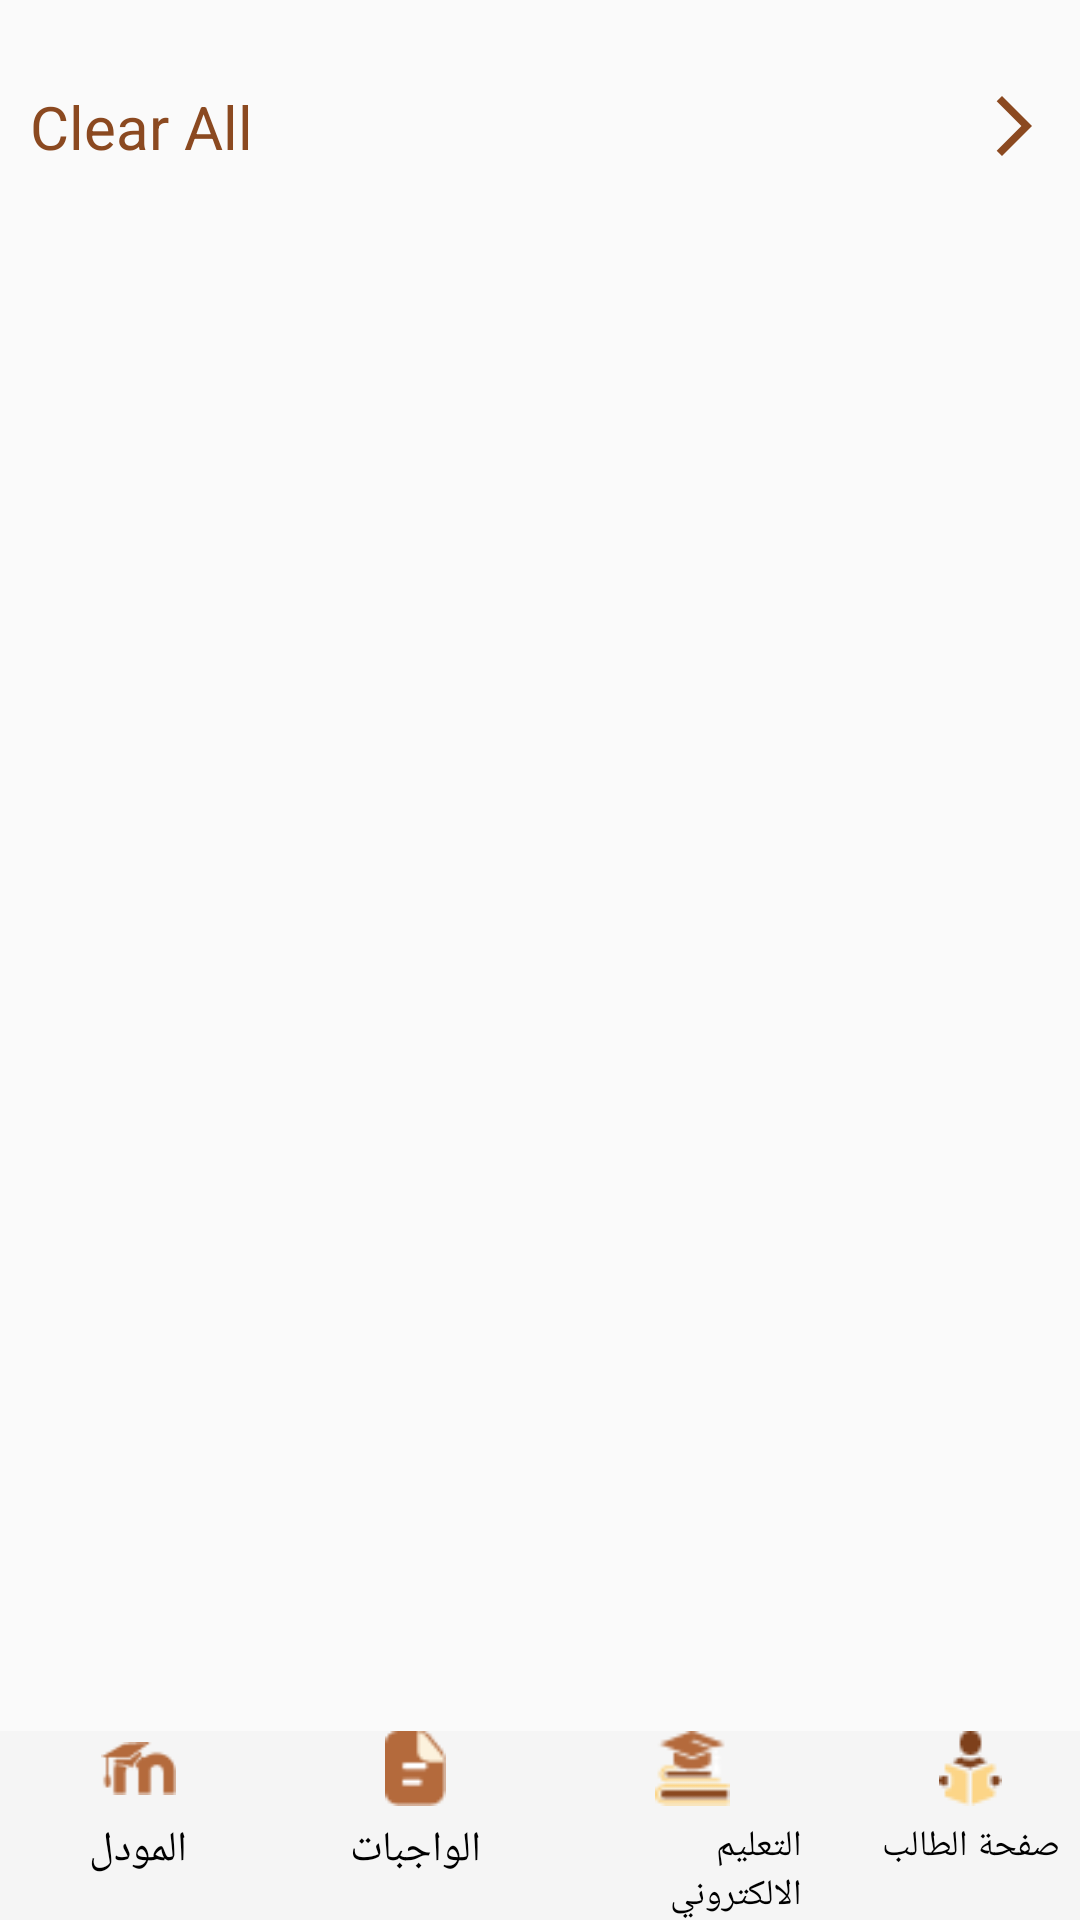

Locate icon controls on the screen. Image size 1080w x 1920h, boxes as (x1, y1, x2, y2).
arrow forward: (997, 96, 1032, 156)
